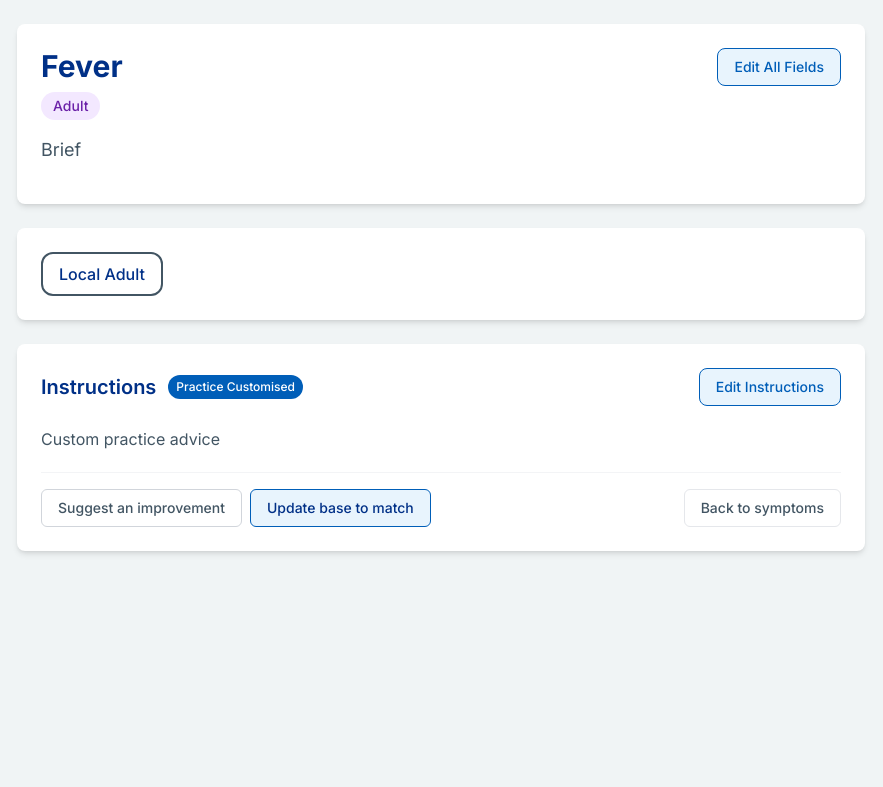
Test: InstructionView variants › prefills customise mode from the surgery override variants
The image size is (883, 787).
Step 1. Click the button "Edit All Fields" → {"x": 779, "y": 67}, box [717,48,841,86]
(page scrolled)
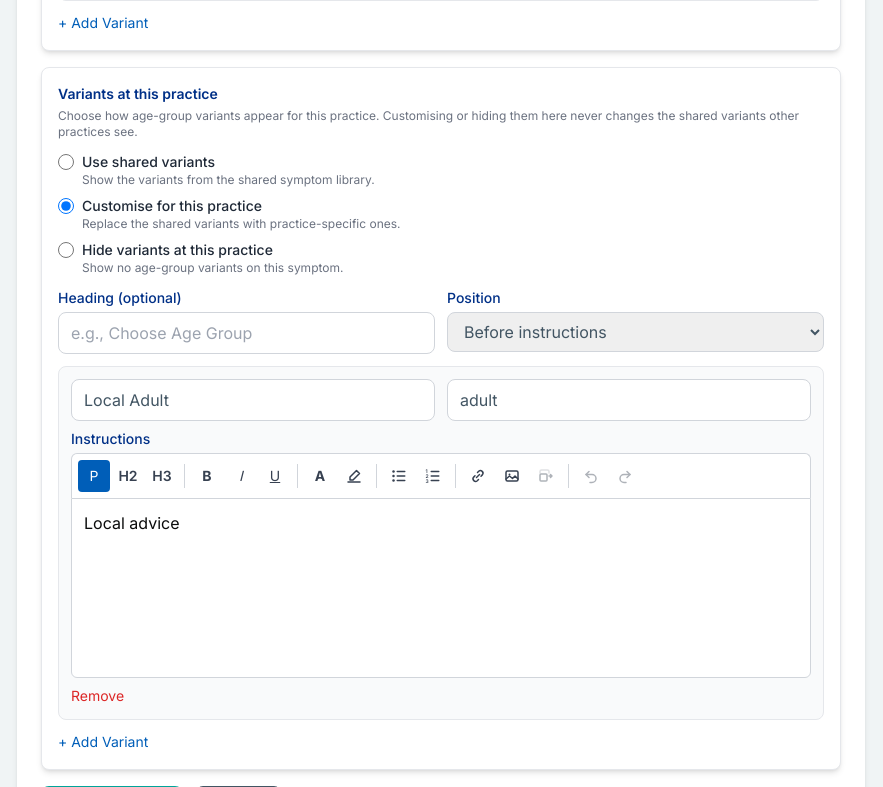
Expected: the heading "Variants at this practice" is shown, [58,85,218,102]
Expected: the radio button labelled "Customise for this practice" is checked, [58,198,74,214]
Expected: the 1st field showing "Local Adult" is shown, [71,379,435,421]
